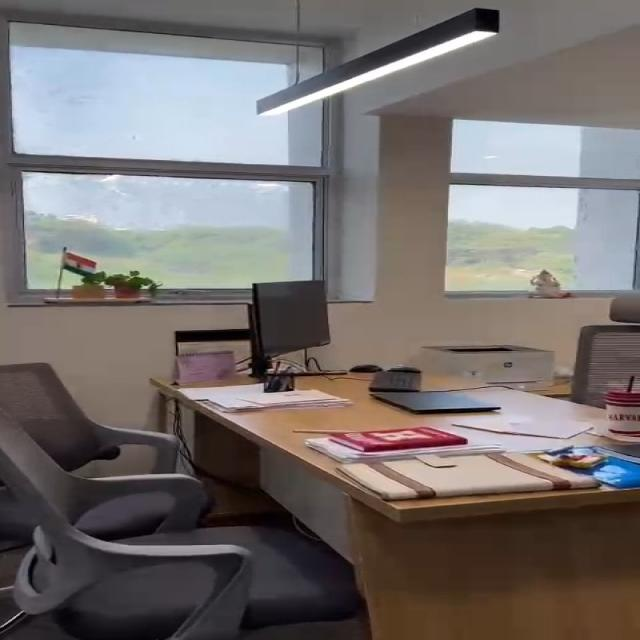furniture: (278, 357, 640, 634), (0, 355, 291, 640), (523, 295, 640, 439), (198, 300, 347, 412)
wall: (16, 0, 640, 308)
